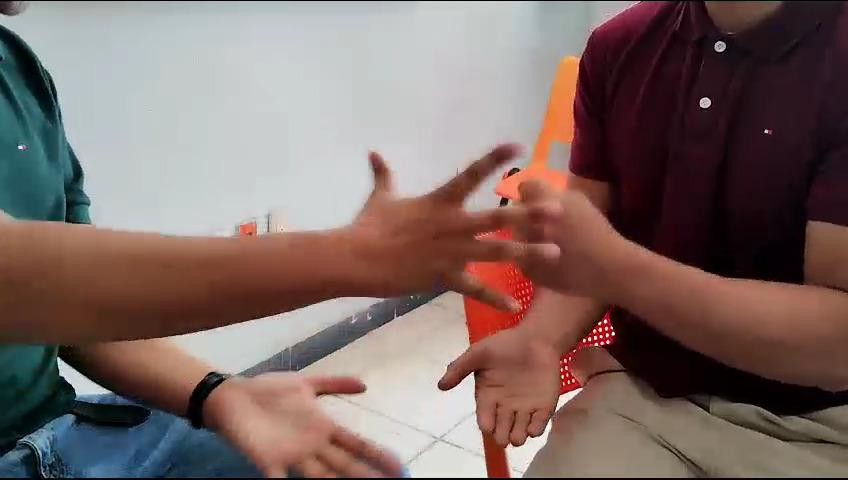Paper: (280, 51, 573, 338)
